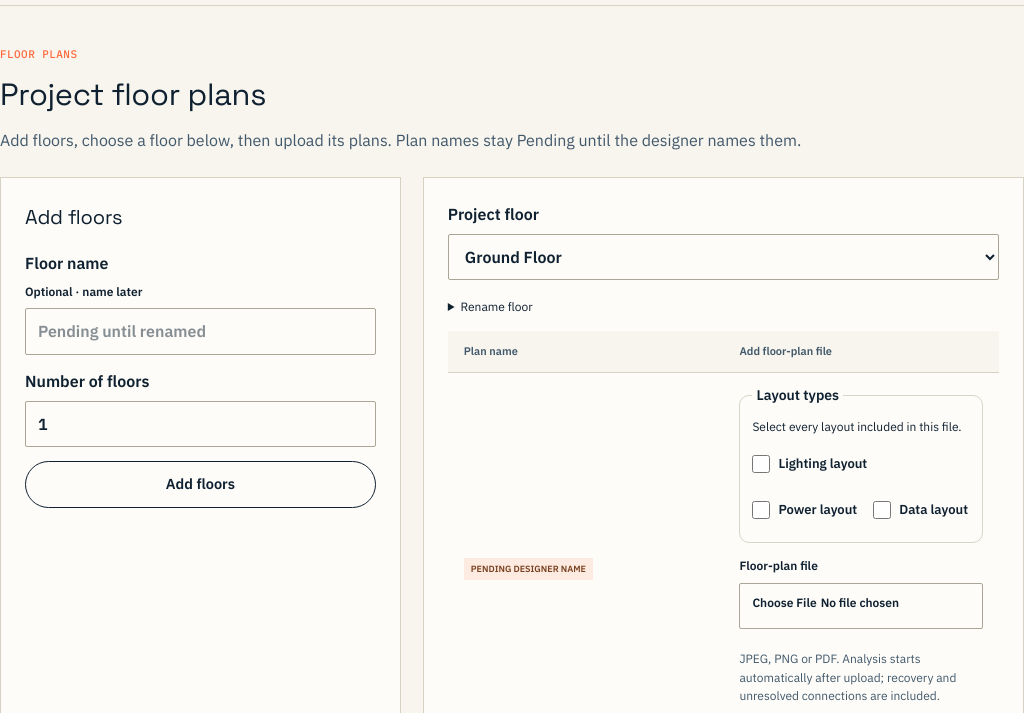
project floor upload panel › ignores stale floor-plan responses and aborts on unmount
Select "Second Floor" in the dropdown labelled "Project floor". click: (723, 257)
box: [448,234,999,280]
(page scrolled)
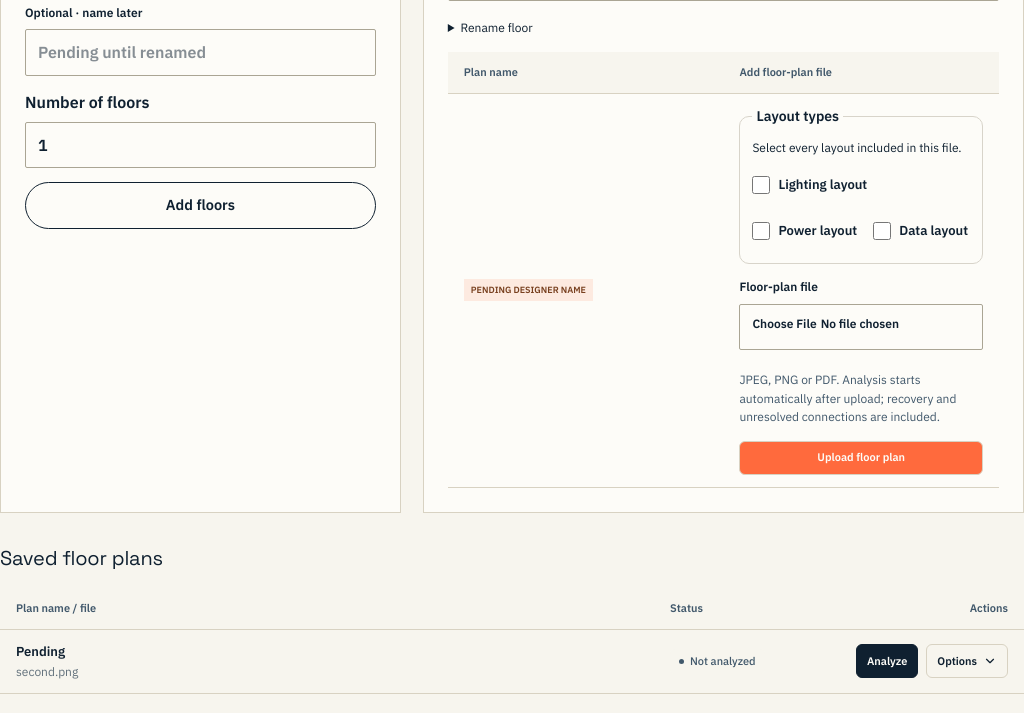
Check: the text "second.png" is shown, box [16,664,78,679]
